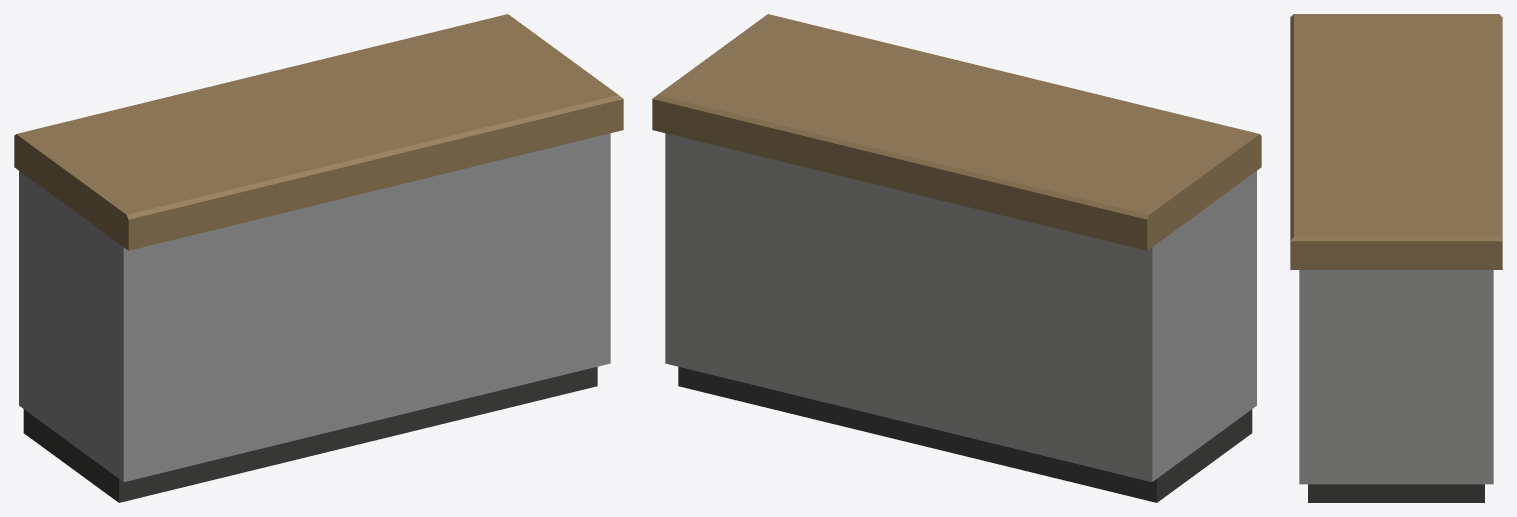
The model's file is SM_Props_Interior_Shop_Counter_Modular_01_End.fbx.
The picture shows the model from 3 angles, left to right: view 1: azimuth 30°, elevation 25°; view 2: azimuth 150°, elevation 25°; view 3: azimuth 270°, elevation 25°; orthographic projection. The views are drawn at different scales.
Parts seen in each view (by area): view 1: SM_Props_Interior_Shop_Counter_Modular_01_End; view 2: SM_Props_Interior_Shop_Counter_Modular_01_End; view 3: SM_Props_Interior_Shop_Counter_Modular_01_End.
Part boxes in pixels (x1=…): SM_Props_Interior_Shop_Counter_Modular_01_End: x1=14, y1=14, x2=623, y2=502; SM_Props_Interior_Shop_Counter_Modular_01_End: x1=652, y1=14, x2=1261, y2=502; SM_Props_Interior_Shop_Counter_Modular_01_End: x1=1290, y1=14, x2=1502, y2=502.
Size of the model in its own units: 150 by 85 by 60.
